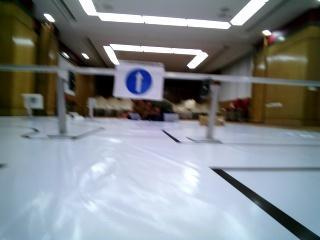straight: (113, 64, 167, 100)
